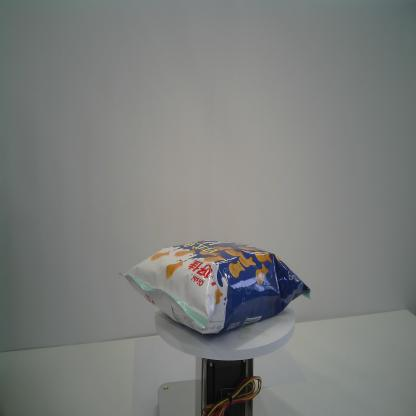Puffed Food: (118, 239, 311, 336)
